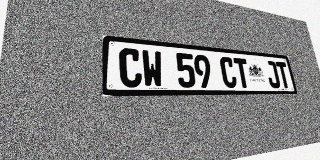5: (176, 53, 196, 88)
9: (193, 54, 213, 88)
C: (119, 47, 142, 87), (219, 56, 238, 88)
J: (264, 61, 281, 88)
T: (233, 58, 251, 88), (275, 61, 291, 88)
W: (141, 50, 164, 88)
